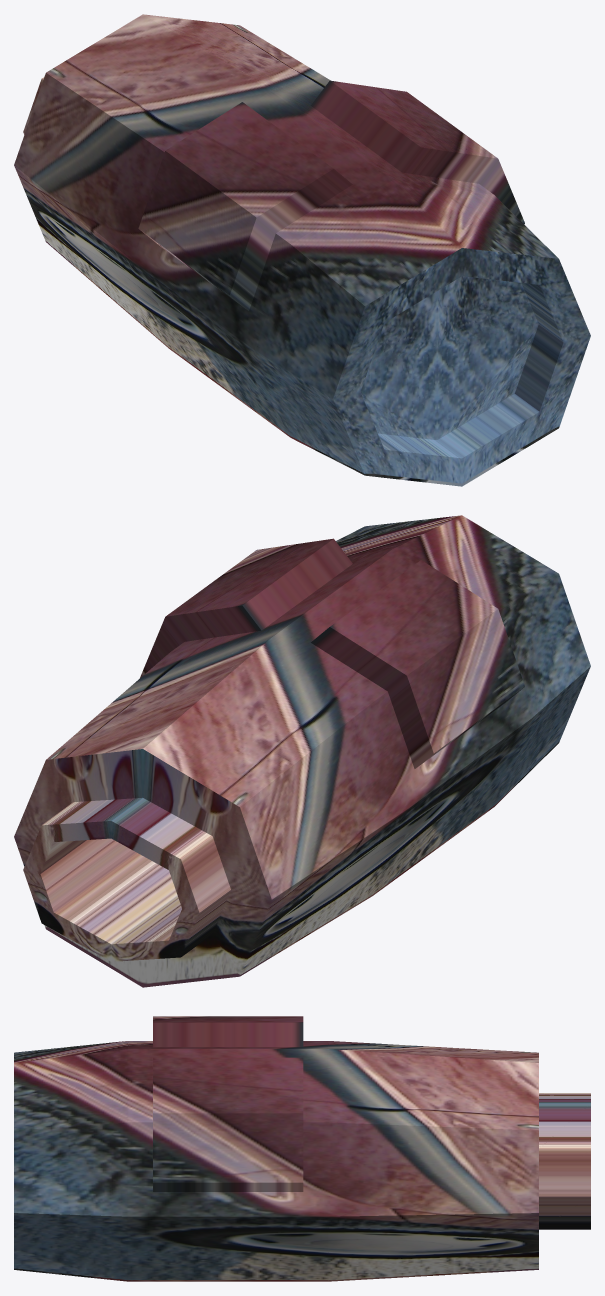
The picture shows the model from 3 angles, top to bottom: view 1: azimuth 30°, elevation 25°; view 2: azimuth 150°, elevation 25°; view 3: azimuth 270°, elevation 25°; orthographic projection. The views are drawn at different scales.
Parts seen in each view (by area): view 1: Engine-3_Cube.006; view 2: Engine-3_Cube.006; view 3: Engine-3_Cube.006.
Part boxes in pixels (x1=…): Engine-3_Cube.006: x1=14, y1=14, x2=590, y2=486; Engine-3_Cube.006: x1=14, y1=515, x2=590, y2=987; Engine-3_Cube.006: x1=14, y1=1016, x2=590, y2=1281.
Size of the model in its own units: 5.08 by 4.66 by 10.44.
